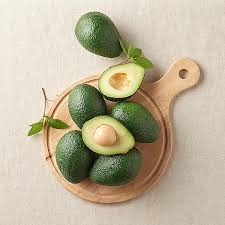avocado: (82, 115, 135, 155), (99, 63, 145, 102)
